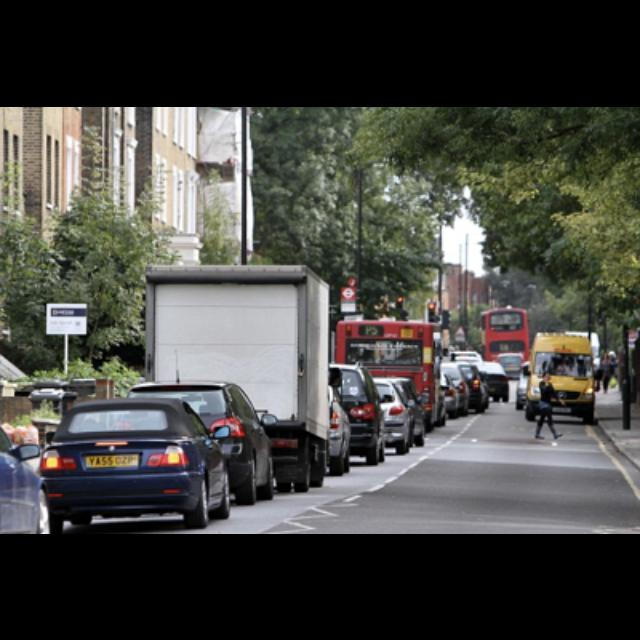carPlate: (86, 454, 138, 466)
